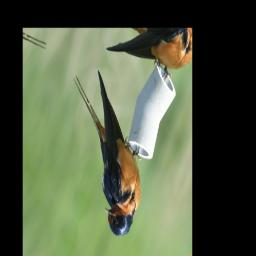Swallow: (43, 55, 164, 248)
